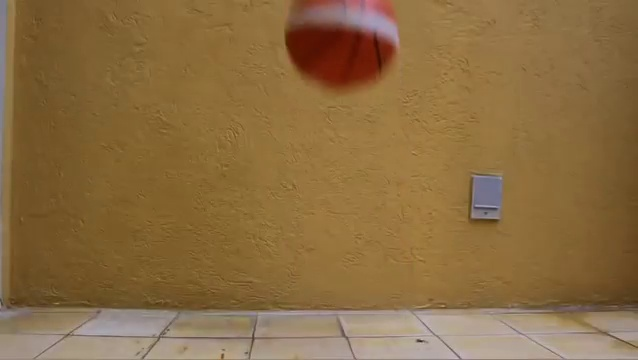ball: (283, 1, 402, 91)
